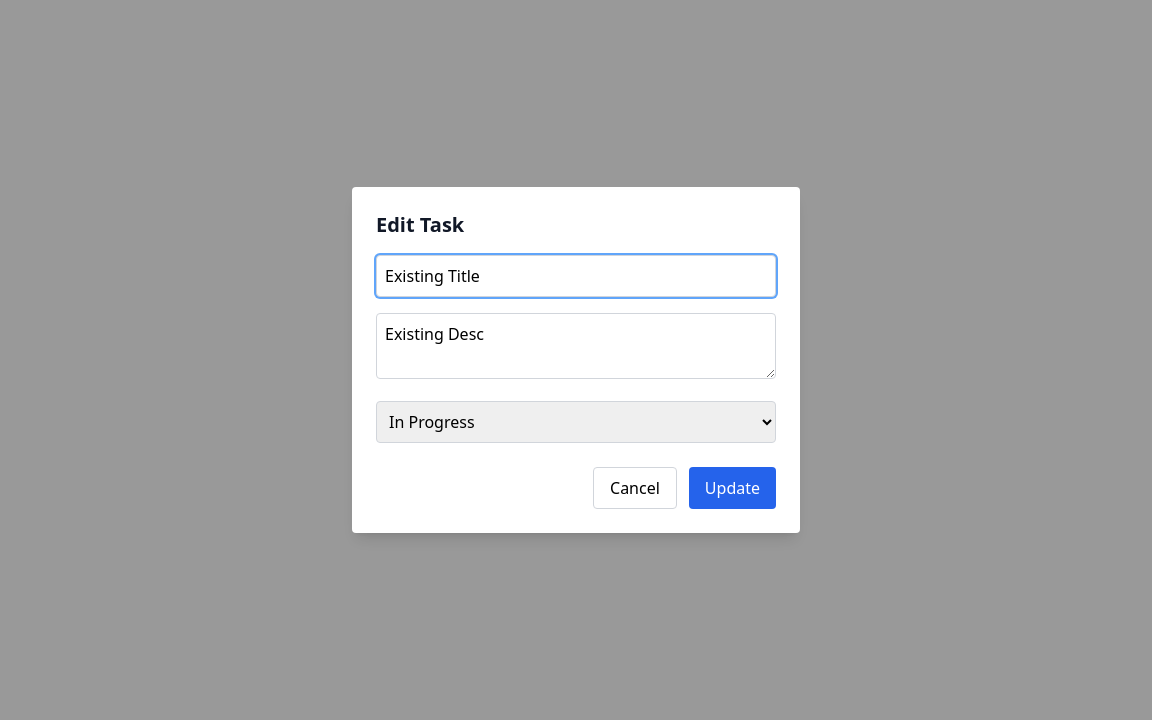
Test case: TaskModal › edit mode › shows validation errors when clearing fields
Clear the field with placeholder "Title" at (576,276), box [376,255,776,297]
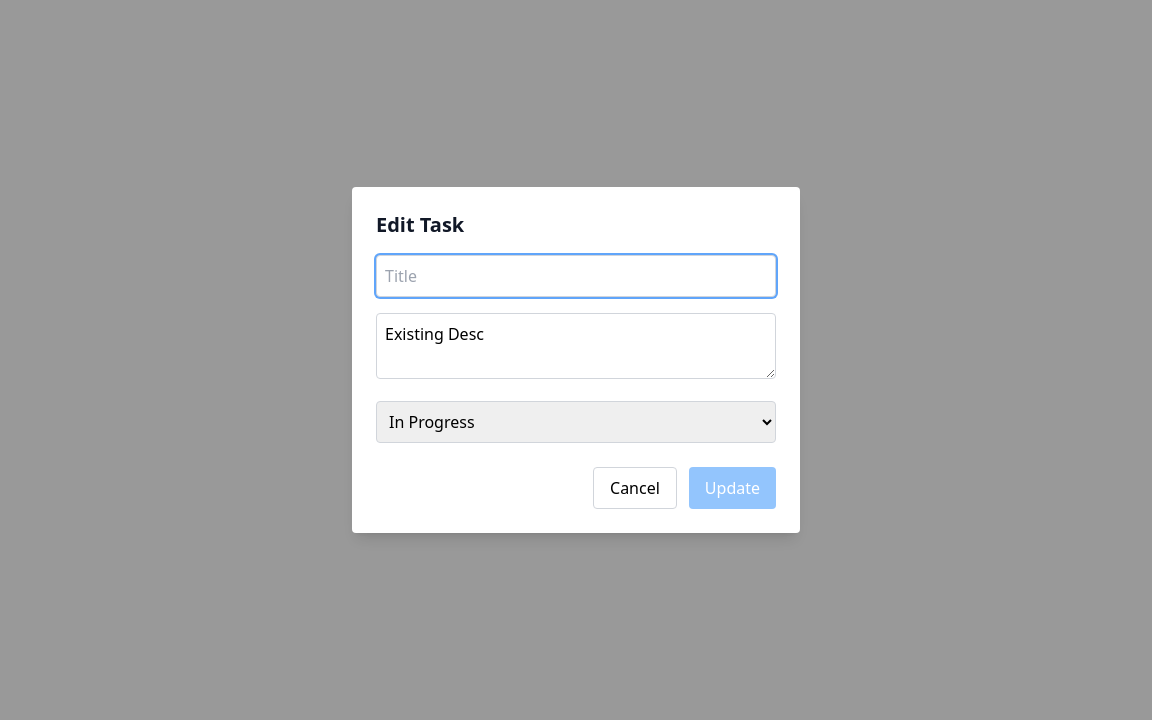
Clear the text box with placeholder "Description" at (576,346), box [376,313,776,379]
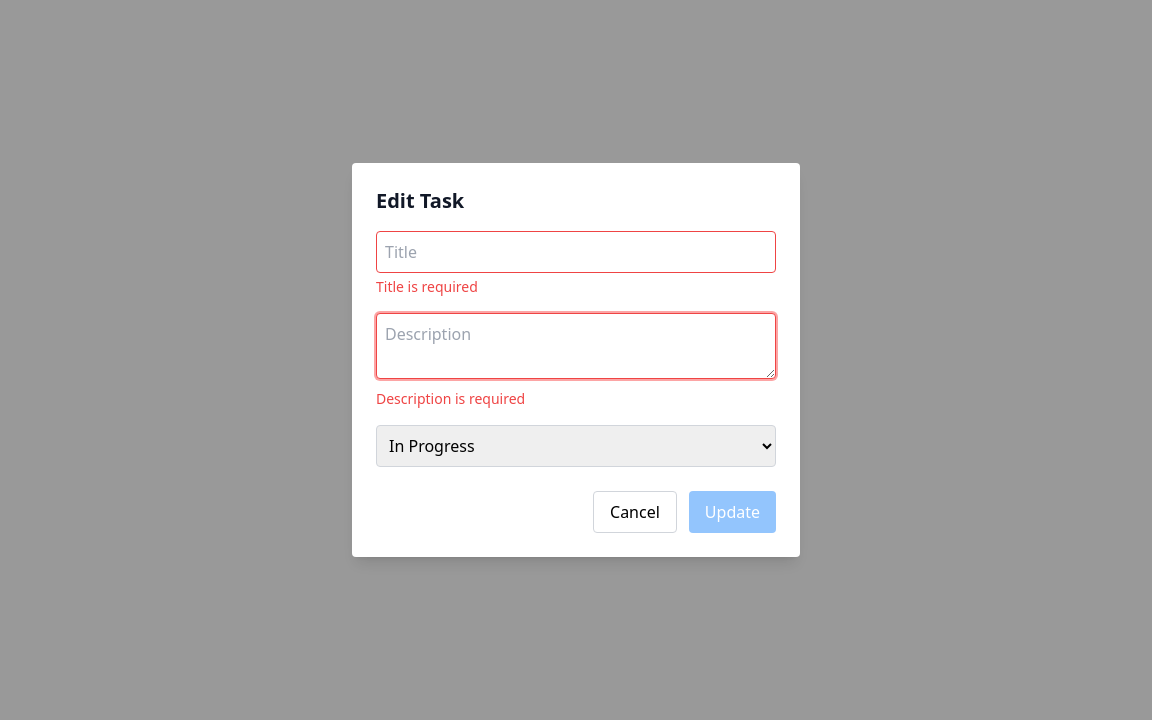
Result: the text "Title is required" is shown at [376,277,478,296]
Result: the text "Description is required" is shown at [376,389,525,408]
